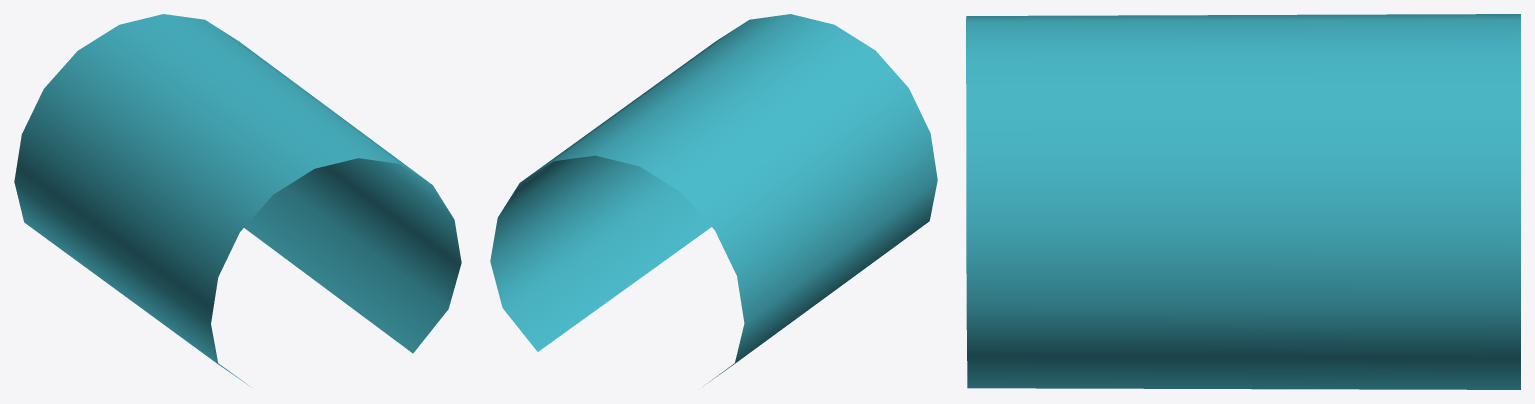
File: M_TunnelInside.FBX
3 views of the same model, side by side, from view 1: azimuth 30°, elevation 25°; view 2: azimuth 150°, elevation 25°; view 3: azimuth 270°, elevation 25° (orthographic). The views are drawn at different scales.
Parts seen in each view (by area): view 1: tunnel inside; view 2: tunnel inside; view 3: tunnel inside.
Part boxes in pixels (x1=…): tunnel inside: x1=14, y1=14, x2=461, y2=386; tunnel inside: x1=490, y1=14, x2=937, y2=386; tunnel inside: x1=966, y1=14, x2=1520, y2=389.
Size of the model in its own units: 211 by 167 by 280.
